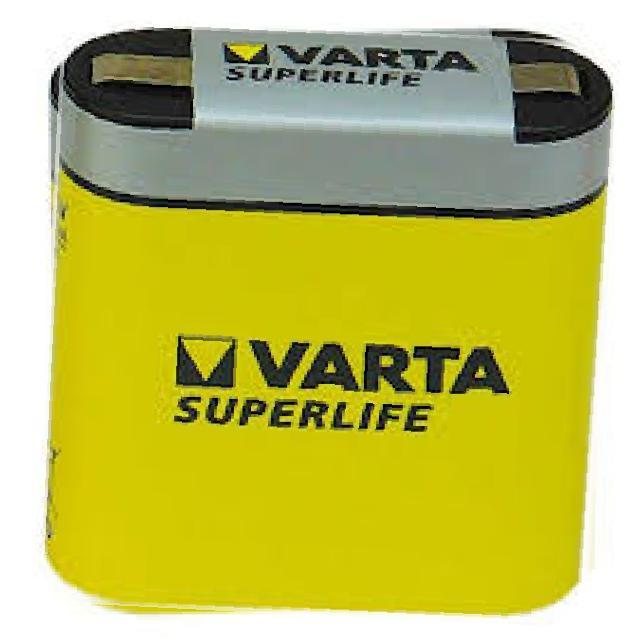Battery: (13, 13, 640, 640)
